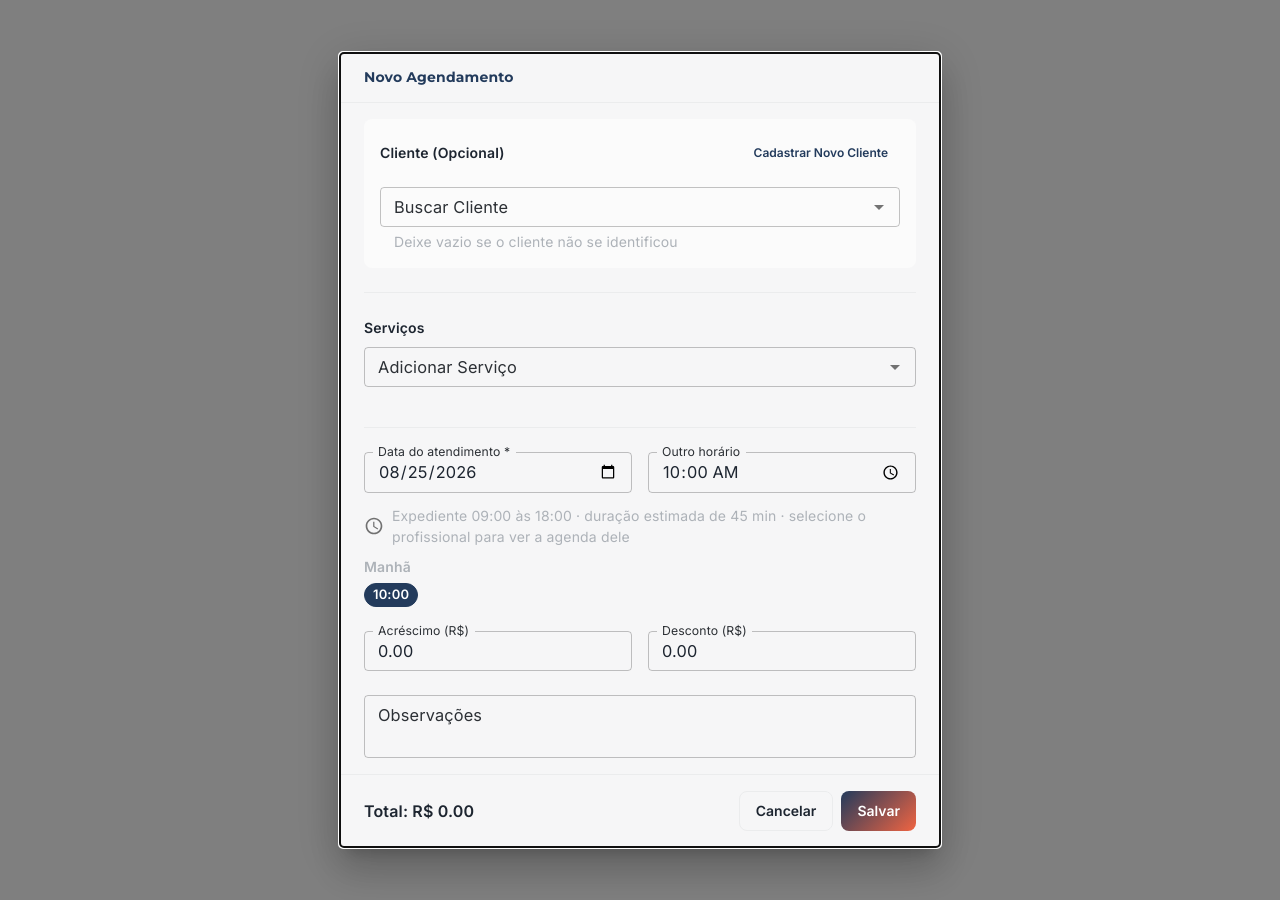
Test case: NewAppointmentModal Component › validates new client required fields when "Cadastrar Novo Cliente" is partially filled
Click the button "Cadastrar Novo Cliente" at [821, 152], box [742,134,900,170]
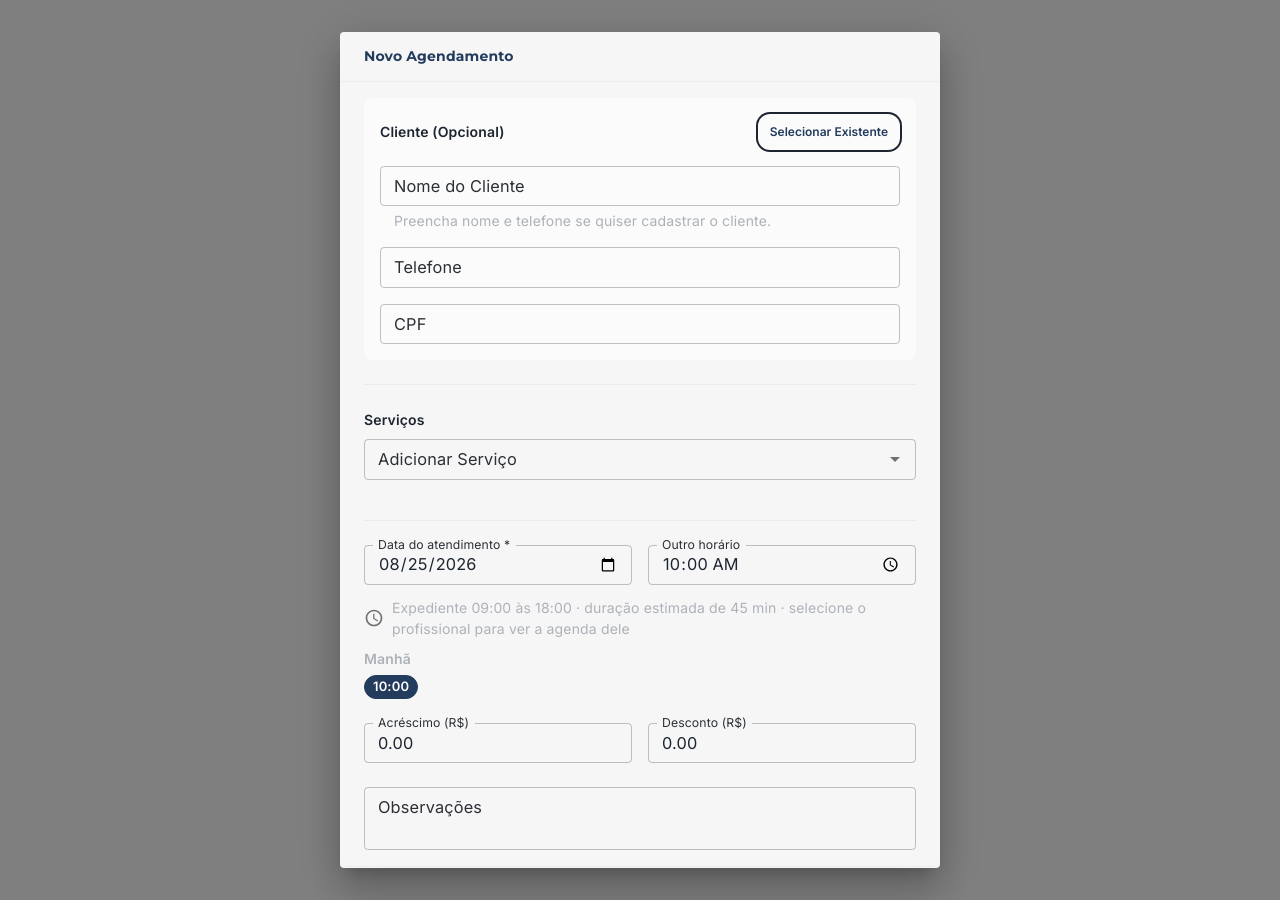
Type "Cliente Sem Telefone" into the field labelled "Nome do Cliente" at [640, 186], box [380,166,900,206]
(page scrolled)
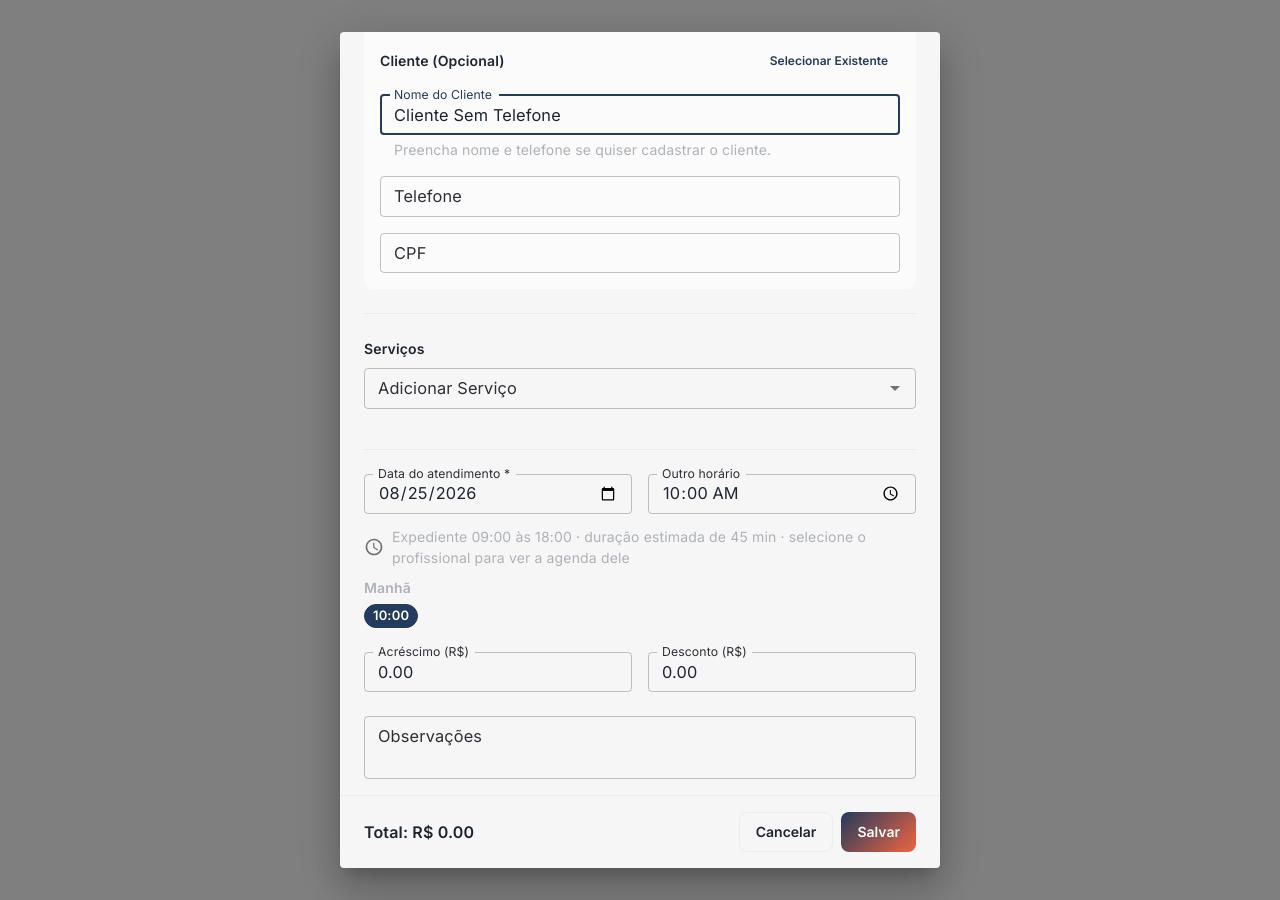
Click the button "Salvar" at [879, 832], box [841,812,916,852]
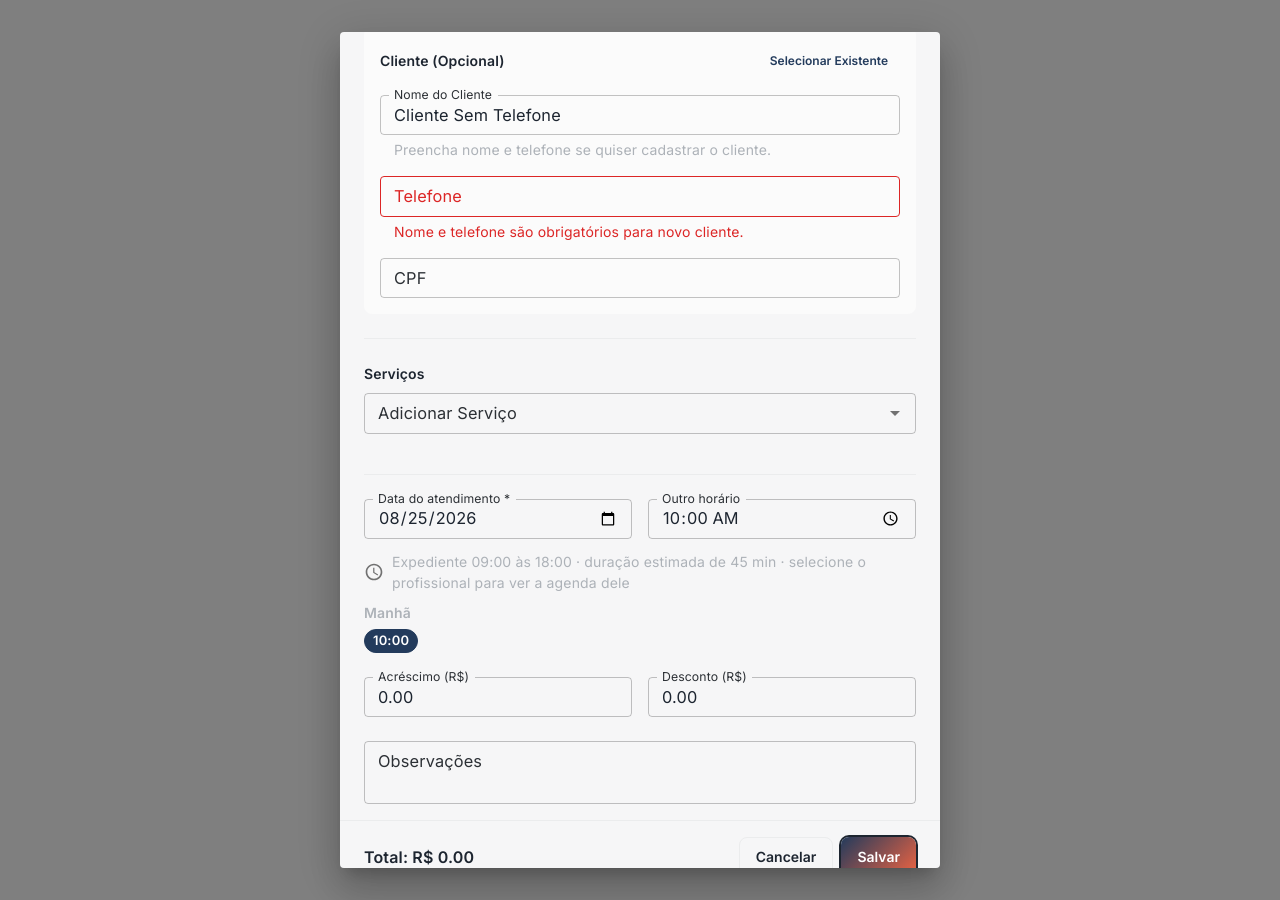
expect the text "Nome e telefone são obrigatórios para novo cliente." is shown: met, box [394,223,744,240]
